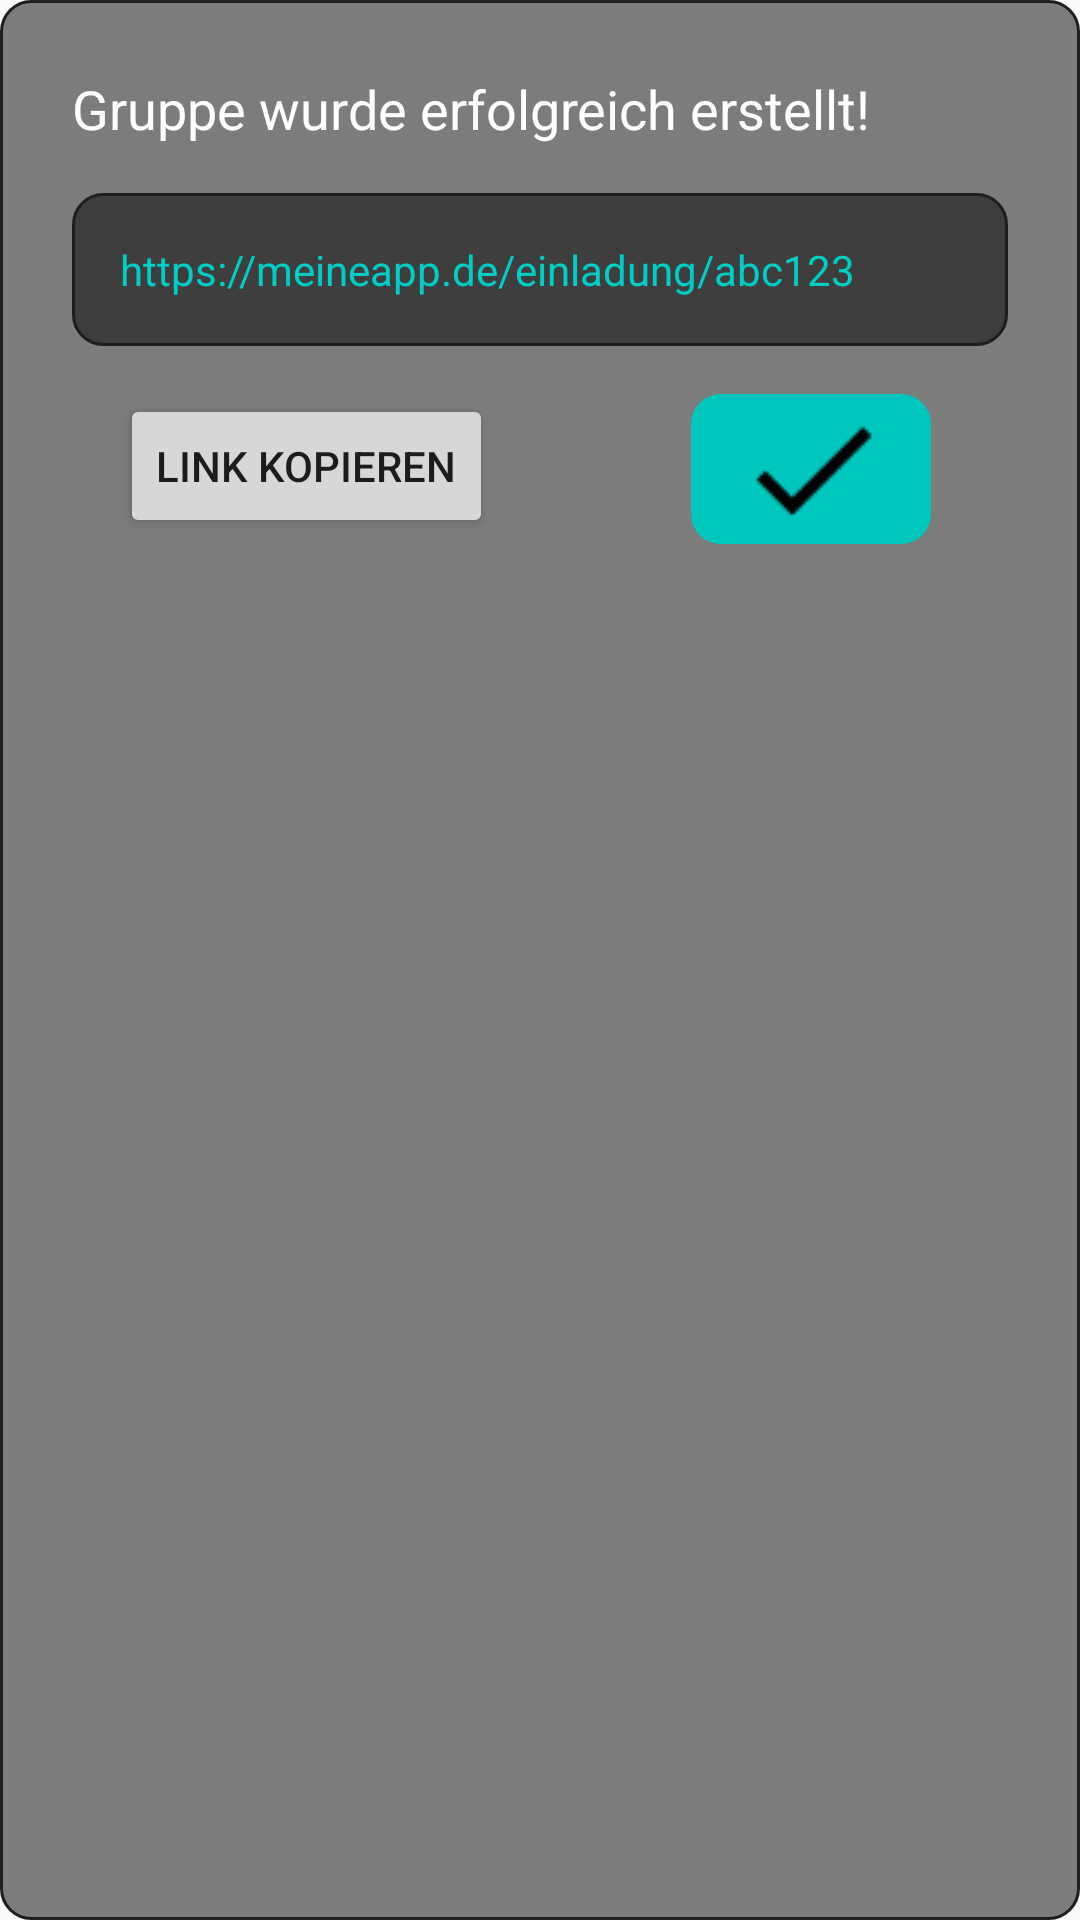

Named icons in this screenshot (1080*1920) and their centers, [x,y]:
Auswahl bestätigen: [811,469]
